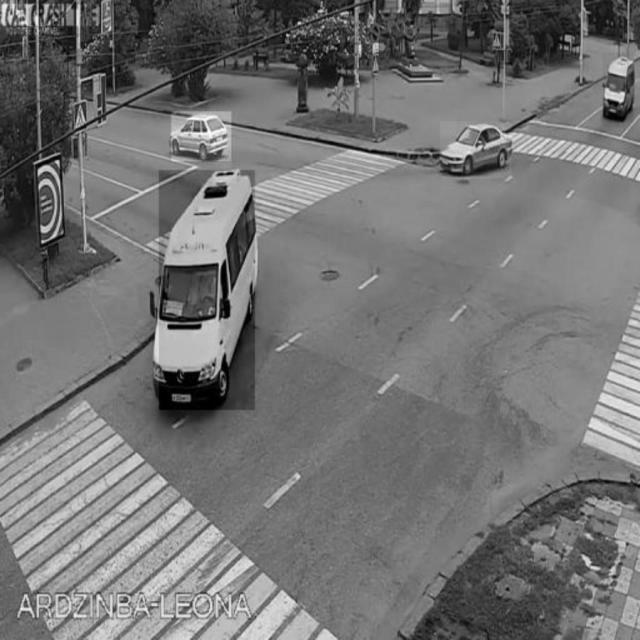vehicle: (159, 170, 255, 410), (440, 122, 511, 179), (171, 112, 231, 162), (603, 53, 633, 127)
